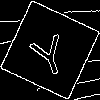Y: (25, 25, 72, 80)
